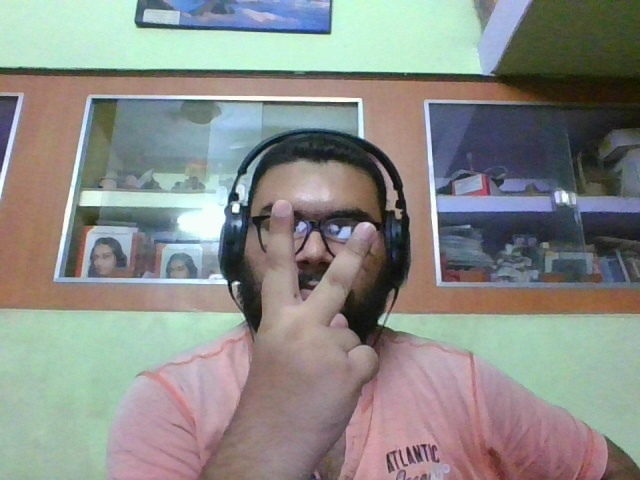iloveyou: (255, 200, 377, 410)
